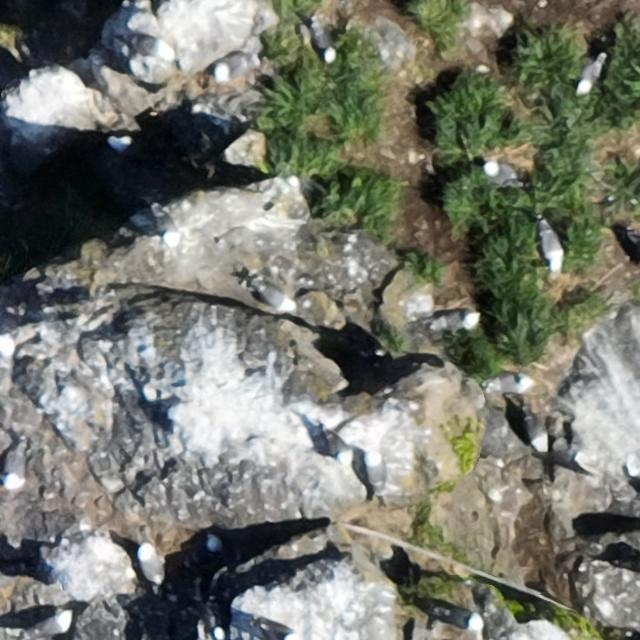umineko: (249, 276, 305, 315), (132, 33, 178, 65), (104, 129, 150, 159), (32, 612, 78, 638), (435, 608, 480, 630), (540, 226, 562, 268), (324, 432, 352, 464), (137, 544, 160, 582), (578, 54, 602, 90), (431, 310, 473, 330), (4, 450, 26, 488), (523, 415, 545, 452), (484, 162, 519, 185), (214, 55, 248, 78), (311, 26, 333, 61), (488, 374, 527, 393), (260, 622, 294, 640)
